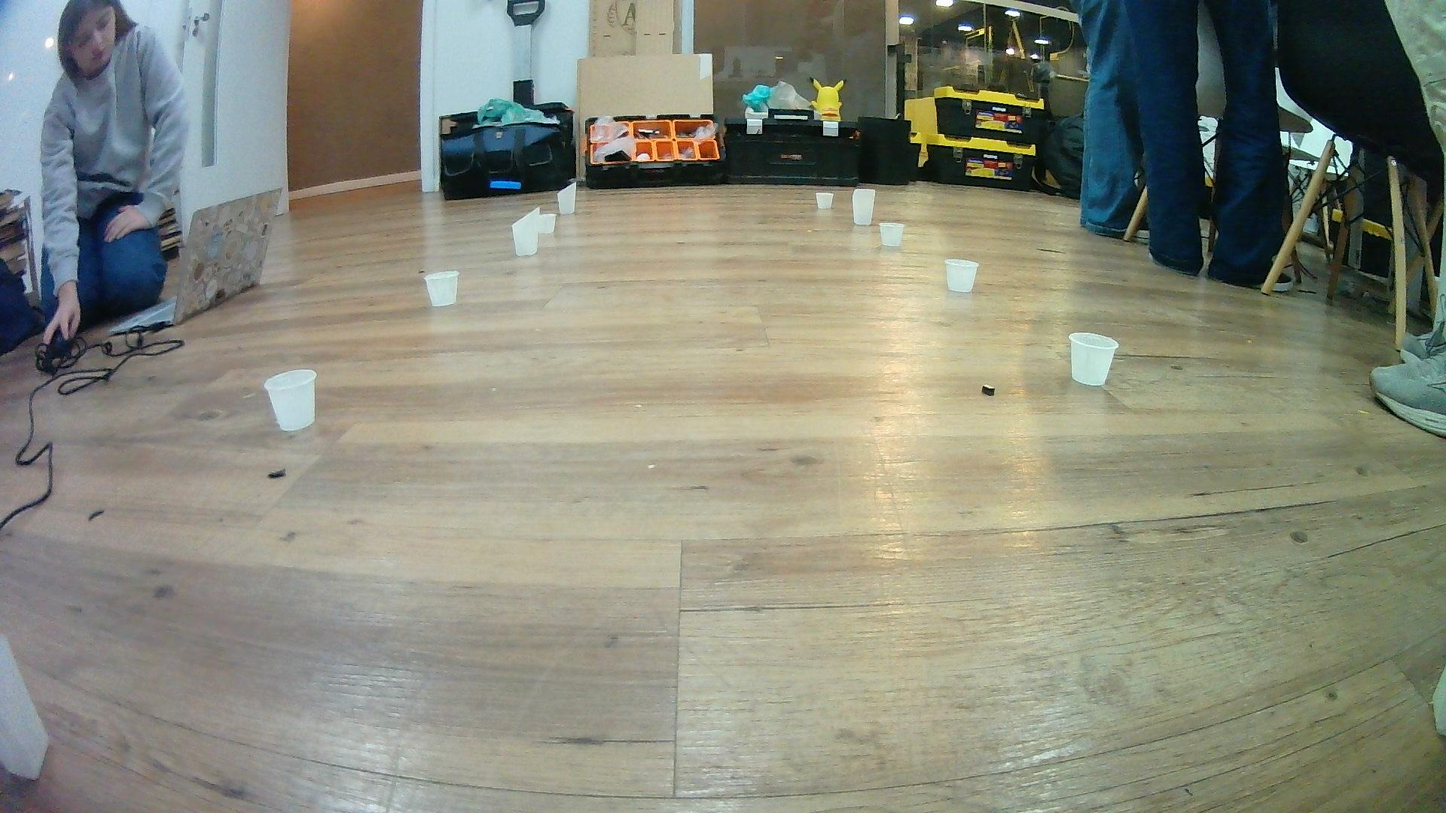erva_daninha: (512, 206, 541, 257), (851, 187, 877, 226), (557, 182, 576, 215)
planta: (264, 369, 318, 433), (1068, 331, 1119, 387), (423, 269, 460, 307), (944, 257, 980, 294), (879, 221, 905, 248), (540, 208, 562, 233), (815, 192, 834, 210)
